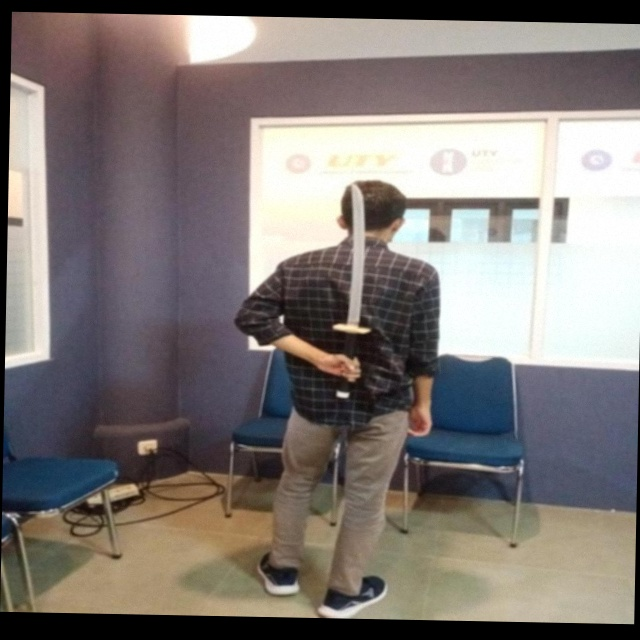Sharp-Object: (320, 180, 382, 403)
